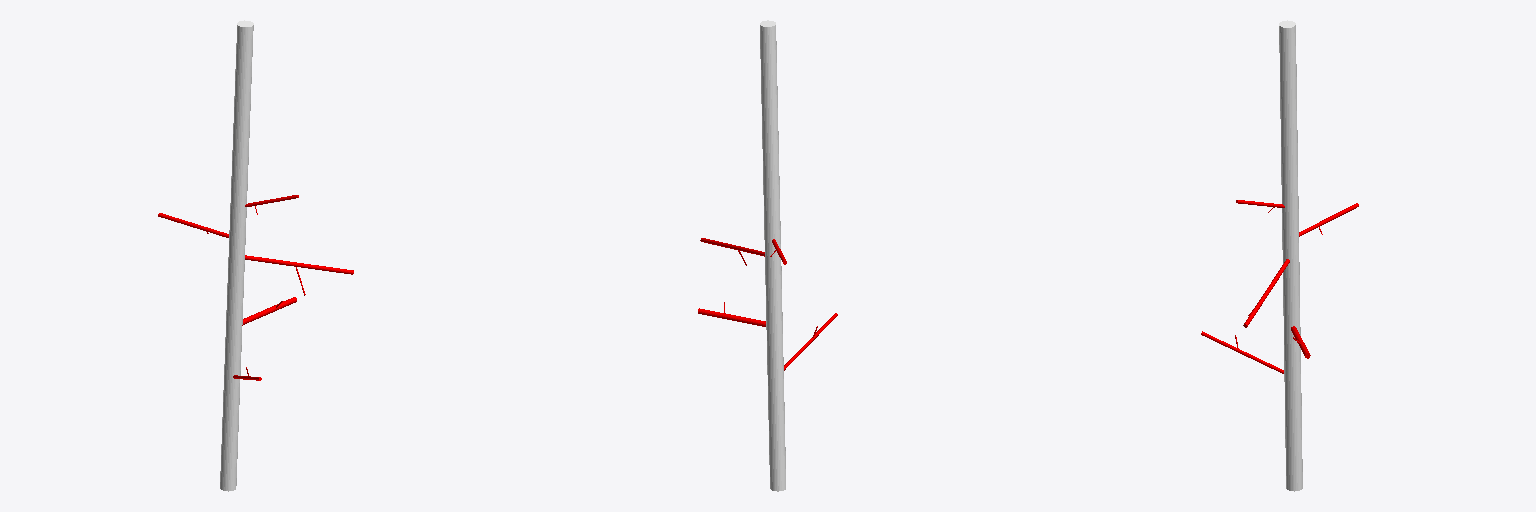
The robot description file, URDF, robot "tree_191.urdf":
<?xml version='1.0' encoding='UTF-8'?>
<robot name="tree_191.urdf">
  <link name="branch_0">
    <inertial>
      <origin xyz="0.0 0.0 0.0" rpy="0.0 -0.0 0.0"/>
      <mass value="0.1"/>
      <inertia ixx="0.001" ixy="0.0" ixz="0.0" iyy="0.001" iyz="0.0" izz="0.001"/>
    </inertial>
    <visual name="branch_0_visual">
      <geometry>
        <cylinder radius="0.17326572471399437" length="10.689200789577924"/>
      </geometry>
      <material name="branch_material"/>
      <origin xyz="0.1673853182164561 -0.07259180242540135 5.341485370703971" rpy="-4.774510366519335e-18 0.03414358965773038 -0.40920034561447177"/>
    </visual>
    <collision name="branch_0_collision">
      <geometry>
        <cylinder radius="0.17326572471399437" length="10.689200789577924"/>
      </geometry>
      <origin xyz="0.1673853182164561 -0.07259180242540135 5.341485370703971" rpy="-4.774510366519335e-18 0.03414358965773038 -0.40920034561447177"/>
    </collision>
  </link>
  <link name="branch_1">
    <inertial>
      <origin xyz="0.0 0.0 0.0" rpy="0.0 -0.0 0.0"/>
      <mass value="0.1"/>
      <inertia ixx="0.001" ixy="0.0" ixz="0.0" iyy="0.001" iyz="0.0" izz="0.001"/>
    </inertial>
    <visual name="branch_1_visual">
      <geometry>
        <cylinder radius="0.05941999793766598" length="1.6972017398186428"/>
      </geometry>
      <material name="semantic_material"/>
      <origin xyz="0.0 0.0 0.0" rpy="0.0 -0.0 0.0"/>
    </visual>
    <collision name="branch_1_collision">
      <geometry>
        <cylinder radius="0.05941999793766598" length="1.6972017398186428"/>
      </geometry>
      <origin xyz="0.0 0.0 0.0" rpy="0.0 -0.0 0.0"/>
    </collision>
  </link>
  <link name="branch_2">
    <inertial>
      <origin xyz="0.0 0.0 0.0" rpy="0.0 -0.0 0.0"/>
      <mass value="0.1"/>
      <inertia ixx="0.001" ixy="0.0" ixz="0.0" iyy="0.001" iyz="0.0" izz="0.001"/>
    </inertial>
    <visual name="branch_2_visual">
      <geometry>
        <cylinder radius="0.014341169442922594" length="0.30777201769538065"/>
      </geometry>
      <material name="semantic_material"/>
      <origin xyz="0.0 0.0 0.0" rpy="0.0 -0.0 0.0"/>
    </visual>
    <collision name="branch_2_collision">
      <geometry>
        <cylinder radius="0.014341169442922594" length="0.30777201769538065"/>
      </geometry>
      <origin xyz="0.0 0.0 0.0" rpy="0.0 -0.0 0.0"/>
    </collision>
  </link>
  <link name="branch_3">
    <inertial>
      <origin xyz="0.0 0.0 0.0" rpy="0.0 -0.0 0.0"/>
      <mass value="0.1"/>
      <inertia ixx="0.001" ixy="0.0" ixz="0.0" iyy="0.001" iyz="0.0" izz="0.001"/>
    </inertial>
    <visual name="branch_3_visual">
      <geometry>
        <cylinder radius="0.04662032929780049" length="2.5118596341275192"/>
      </geometry>
      <material name="semantic_material"/>
      <origin xyz="0.0 0.0 0.0" rpy="0.0 -0.0 0.0"/>
    </visual>
    <collision name="branch_3_collision">
      <geometry>
        <cylinder radius="0.04662032929780049" length="2.5118596341275192"/>
      </geometry>
      <origin xyz="0.0 0.0 0.0" rpy="0.0 -0.0 0.0"/>
    </collision>
  </link>
  <link name="branch_4">
    <inertial>
      <origin xyz="0.0 0.0 0.0" rpy="0.0 -0.0 0.0"/>
      <mass value="0.1"/>
      <inertia ixx="0.001" ixy="0.0" ixz="0.0" iyy="0.001" iyz="0.0" izz="0.001"/>
    </inertial>
    <visual name="branch_4_visual">
      <geometry>
        <cylinder radius="0.015685059976009615" length="0.6815847753919149"/>
      </geometry>
      <material name="semantic_material"/>
      <origin xyz="0.0 0.0 0.0" rpy="0.0 -0.0 0.0"/>
    </visual>
    <collision name="branch_4_collision">
      <geometry>
        <cylinder radius="0.015685059976009615" length="0.6815847753919149"/>
      </geometry>
      <origin xyz="0.0 0.0 0.0" rpy="0.0 -0.0 0.0"/>
    </collision>
  </link>
  <link name="branch_5">
    <inertial>
      <origin xyz="0.0 0.0 0.0" rpy="0.0 -0.0 0.0"/>
      <mass value="0.1"/>
      <inertia ixx="0.001" ixy="0.0" ixz="0.0" iyy="0.001" iyz="0.0" izz="0.001"/>
    </inertial>
    <visual name="branch_5_visual">
      <geometry>
        <cylinder radius="0.038241807111306376" length="1.4457167073419495"/>
      </geometry>
      <material name="semantic_material"/>
      <origin xyz="0.0 0.0 0.0" rpy="0.0 -0.0 0.0"/>
    </visual>
    <collision name="branch_5_collision">
      <geometry>
        <cylinder radius="0.038241807111306376" length="1.4457167073419495"/>
      </geometry>
      <origin xyz="0.0 0.0 0.0" rpy="0.0 -0.0 0.0"/>
    </collision>
  </link>
  <link name="branch_6">
    <inertial>
      <origin xyz="0.0 0.0 0.0" rpy="0.0 -0.0 0.0"/>
      <mass value="0.1"/>
      <inertia ixx="0.001" ixy="0.0" ixz="0.0" iyy="0.001" iyz="0.0" izz="0.001"/>
    </inertial>
    <visual name="branch_6_visual">
      <geometry>
        <cylinder radius="0.01" length="0.24008060335476342"/>
      </geometry>
      <material name="semantic_material"/>
      <origin xyz="0.0 0.0 0.0" rpy="0.0 -0.0 0.0"/>
    </visual>
    <collision name="branch_6_collision">
      <geometry>
        <cylinder radius="0.01" length="0.24008060335476342"/>
      </geometry>
      <origin xyz="0.0 0.0 0.0" rpy="0.0 -0.0 0.0"/>
    </collision>
  </link>
  <link name="branch_7">
    <inertial>
      <origin xyz="0.0 0.0 0.0" rpy="0.0 -0.0 0.0"/>
      <mass value="0.1"/>
      <inertia ixx="0.001" ixy="0.0" ixz="0.0" iyy="0.001" iyz="0.0" izz="0.001"/>
    </inertial>
    <visual name="branch_7_visual">
      <geometry>
        <cylinder radius="0.03802569029663116" length="2.0803734035307775"/>
      </geometry>
      <material name="semantic_material"/>
      <origin xyz="0.0 0.0 0.0" rpy="0.0 -0.0 0.0"/>
    </visual>
    <collision name="branch_7_collision">
      <geometry>
        <cylinder radius="0.03802569029663116" length="2.0803734035307775"/>
      </geometry>
      <origin xyz="0.0 0.0 0.0" rpy="0.0 -0.0 0.0"/>
    </collision>
  </link>
  <link name="branch_8">
    <inertial>
      <origin xyz="0.0 0.0 0.0" rpy="0.0 -0.0 0.0"/>
      <mass value="0.1"/>
      <inertia ixx="0.001" ixy="0.0" ixz="0.0" iyy="0.001" iyz="0.0" izz="0.001"/>
    </inertial>
    <visual name="branch_8_visual">
      <geometry>
        <cylinder radius="0.013315450633620966" length="0.32160747481612284"/>
      </geometry>
      <material name="semantic_material"/>
      <origin xyz="0.0 0.0 0.0" rpy="0.0 -0.0 0.0"/>
    </visual>
    <collision name="branch_8_collision">
      <geometry>
        <cylinder radius="0.013315450633620966" length="0.32160747481612284"/>
      </geometry>
      <origin xyz="0.0 0.0 0.0" rpy="0.0 -0.0 0.0"/>
    </collision>
  </link>
  <link name="branch_9">
    <inertial>
      <origin xyz="0.0 0.0 0.0" rpy="0.0 -0.0 0.0"/>
      <mass value="0.1"/>
      <inertia ixx="0.001" ixy="0.0" ixz="0.0" iyy="0.001" iyz="0.0" izz="0.001"/>
    </inertial>
    <visual name="branch_9_visual">
      <geometry>
        <cylinder radius="0.043952411190934536" length="1.7819073596715564"/>
      </geometry>
      <material name="semantic_material"/>
      <origin xyz="0.0 0.0 0.0" rpy="0.0 -0.0 0.0"/>
    </visual>
    <collision name="branch_9_collision">
      <geometry>
        <cylinder radius="0.043952411190934536" length="1.7819073596715564"/>
      </geometry>
      <origin xyz="0.0 0.0 0.0" rpy="0.0 -0.0 0.0"/>
    </collision>
  </link>
  <link name="branch_10">
    <inertial>
      <origin xyz="0.0 0.0 0.0" rpy="0.0 -0.0 0.0"/>
      <mass value="0.1"/>
      <inertia ixx="0.001" ixy="0.0" ixz="0.0" iyy="0.001" iyz="0.0" izz="0.001"/>
    </inertial>
    <visual name="branch_10_visual">
      <geometry>
        <cylinder radius="0.011700470758378096" length="0.23198358756965665"/>
      </geometry>
      <material name="semantic_material"/>
      <origin xyz="0.0 0.0 0.0" rpy="0.0 -0.0 0.0"/>
    </visual>
    <collision name="branch_10_collision">
      <geometry>
        <cylinder radius="0.011700470758378096" length="0.23198358756965665"/>
      </geometry>
      <origin xyz="0.0 0.0 0.0" rpy="0.0 -0.0 0.0"/>
    </collision>
  </link>
  <joint name="joint_0_1" type="fixed">
    <parent link="branch_0"/>
    <child link="branch_1"/>
    <axis xyz="1. 0. 0."/>
    <origin xyz="0.9486315896770824 0.11102092415984856 3.7762025623990687" rpy="0.33959827857910985 1.512682930081064 0.5321527393446092"/>
  </joint>
  <joint name="joint_0_3" type="fixed">
    <parent link="branch_0"/>
    <child link="branch_3"/>
    <axis xyz="1. 0. 0."/>
    <origin xyz="1.3018893668308997 -0.5421457491587874 5.071725855982158" rpy="3.138876841895962 1.3597475280000006 2.7463936996910503"/>
  </joint>
  <joint name="joint_0_5" type="fixed">
    <parent link="branch_0"/>
    <child link="branch_5"/>
    <axis xyz="1. 0. 0."/>
    <origin xyz="0.6045063786049536 -0.6345657587289588 6.71982462018346" rpy="-0.05031052232776764 1.217742980443704 -0.9906065190589759"/>
  </joint>
  <joint name="joint_0_7" type="fixed">
    <parent link="branch_0"/>
    <child link="branch_7"/>
    <axis xyz="1. 0. 0."/>
    <origin xyz="-0.12226244228061162 -0.972944097834941 2.960201691310676" rpy="-0.0868486358275337 1.1733985678989547 -1.8774861045438076"/>
  </joint>
  <joint name="joint_0_9" type="fixed">
    <parent link="branch_0"/>
    <child link="branch_9"/>
    <axis xyz="1. 0. 0."/>
    <origin xyz="-0.368904915527826 0.6118409980542342 5.864013178798672" rpy="0.10850497770736857 1.422568710126539 2.3523652927179097"/>
  </joint>
  <joint name="joint_1_2" type="fixed">
    <parent link="branch_0"/>
    <child link="branch_2"/>
    <axis xyz="1. 0. 0."/>
    <origin xyz="1.262088106059342 0.07072185707094061 3.903267976703906" rpy="-0.7403813572388593 -0.14090607509662045 -2.7726968910376417"/>
  </joint>
  <joint name="joint_3_4" type="fixed">
    <parent link="branch_0"/>
    <child link="branch_4"/>
    <axis xyz="1. 0. 0."/>
    <origin xyz="1.312290644274128 -0.7411615807772617 4.791822528692204" rpy="-2.5385811512402747 0.12620195573019213 2.9819423496843935"/>
  </joint>
  <joint name="joint_5_6" type="fixed">
    <parent link="branch_0"/>
    <child link="branch_6"/>
    <axis xyz="1. 0. 0."/>
    <origin xyz="0.4078086802559492 -0.4635950759650867 6.516383445967332" rpy="-2.5910878345141666 0.514174133445365 2.3083836097086614"/>
  </joint>
  <joint name="joint_7_8" type="fixed">
    <parent link="branch_0"/>
    <child link="branch_8"/>
    <axis xyz="1. 0. 0."/>
    <origin xyz="-0.20997479365379026 -1.1845798321900078 3.1885464026481123" rpy="-0.30118791425034624 -0.20073449446523167 1.547412790624214"/>
  </joint>
  <joint name="joint_9_10" type="fixed">
    <parent link="branch_0"/>
    <child link="branch_10"/>
    <axis xyz="1. 0. 0."/>
    <origin xyz="-0.20961220299468278 0.5313700354920975 5.751355762081379" rpy="-2.444565052912466 0.051111355880393755 -0.9804878725000181"/>
  </joint>
  <material name="branch_material">
    <color rgba="1. 1. 1. 1."/>
  </material>
  <material name="semantic_material">
    <color rgba="1. 0. 0. 1."/>
  </material>
</robot>

--- Render facts (derived) ---
3 views of the same robot in one strip: view 1: azimuth 30°, elevation 25°; view 2: azimuth 150°, elevation 25°; view 3: azimuth 270°, elevation 25° (orthographic).
Model tree_191.urdf with 11 links and 10 joints (10 fixed), rooted at branch_0, posed all joints at 0.
Visible links, largest first — view 1: branch_0; view 2: branch_0; view 3: branch_0.
Boxes of the visible links, <box> form: branch_0: <box>220,20,253,491</box>; branch_0: <box>760,20,785,491</box>; branch_0: <box>1279,20,1302,491</box>.
Bounding box of the posed robot: 3.41 × 3.26 × 10.69 m (x, y, z).
Geometry: primitives only (box / cylinder / sphere), no mesh files.
